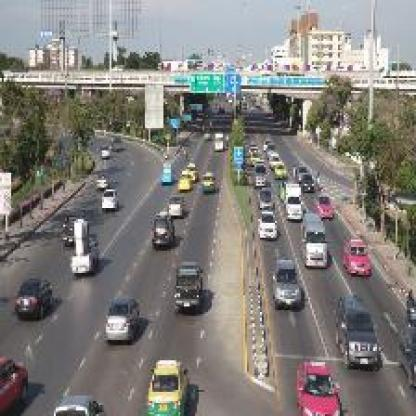other: (290, 353, 352, 412), (341, 233, 378, 280), (180, 159, 197, 193), (316, 192, 334, 212)
